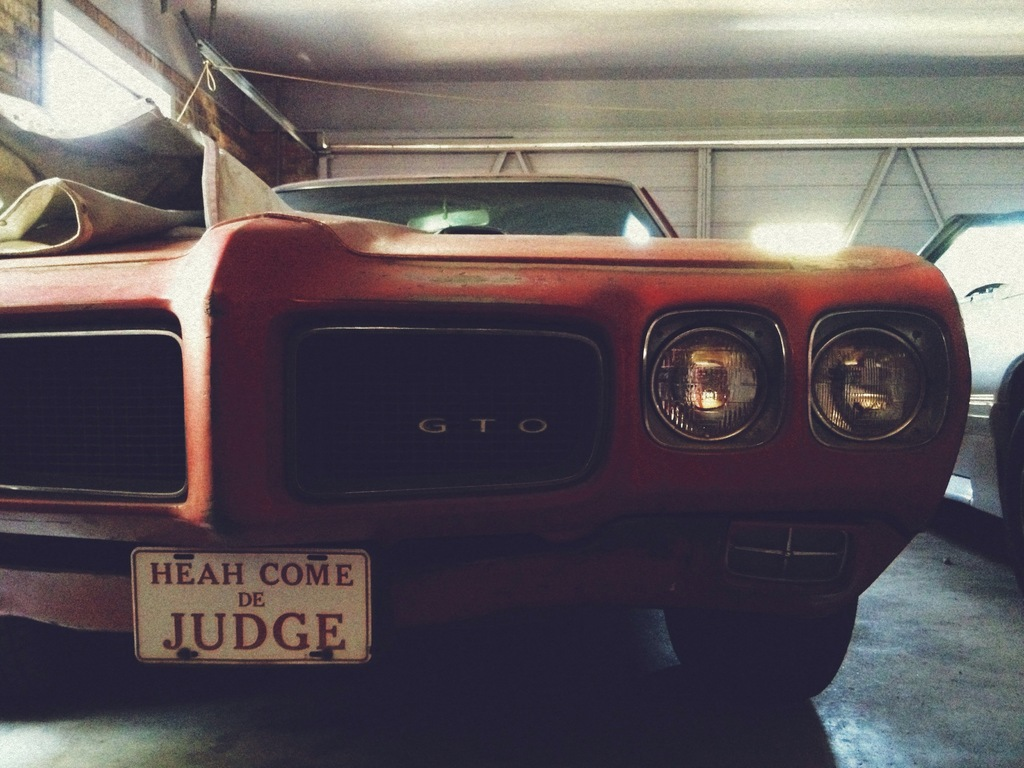mobil: (1, 130, 991, 729)
